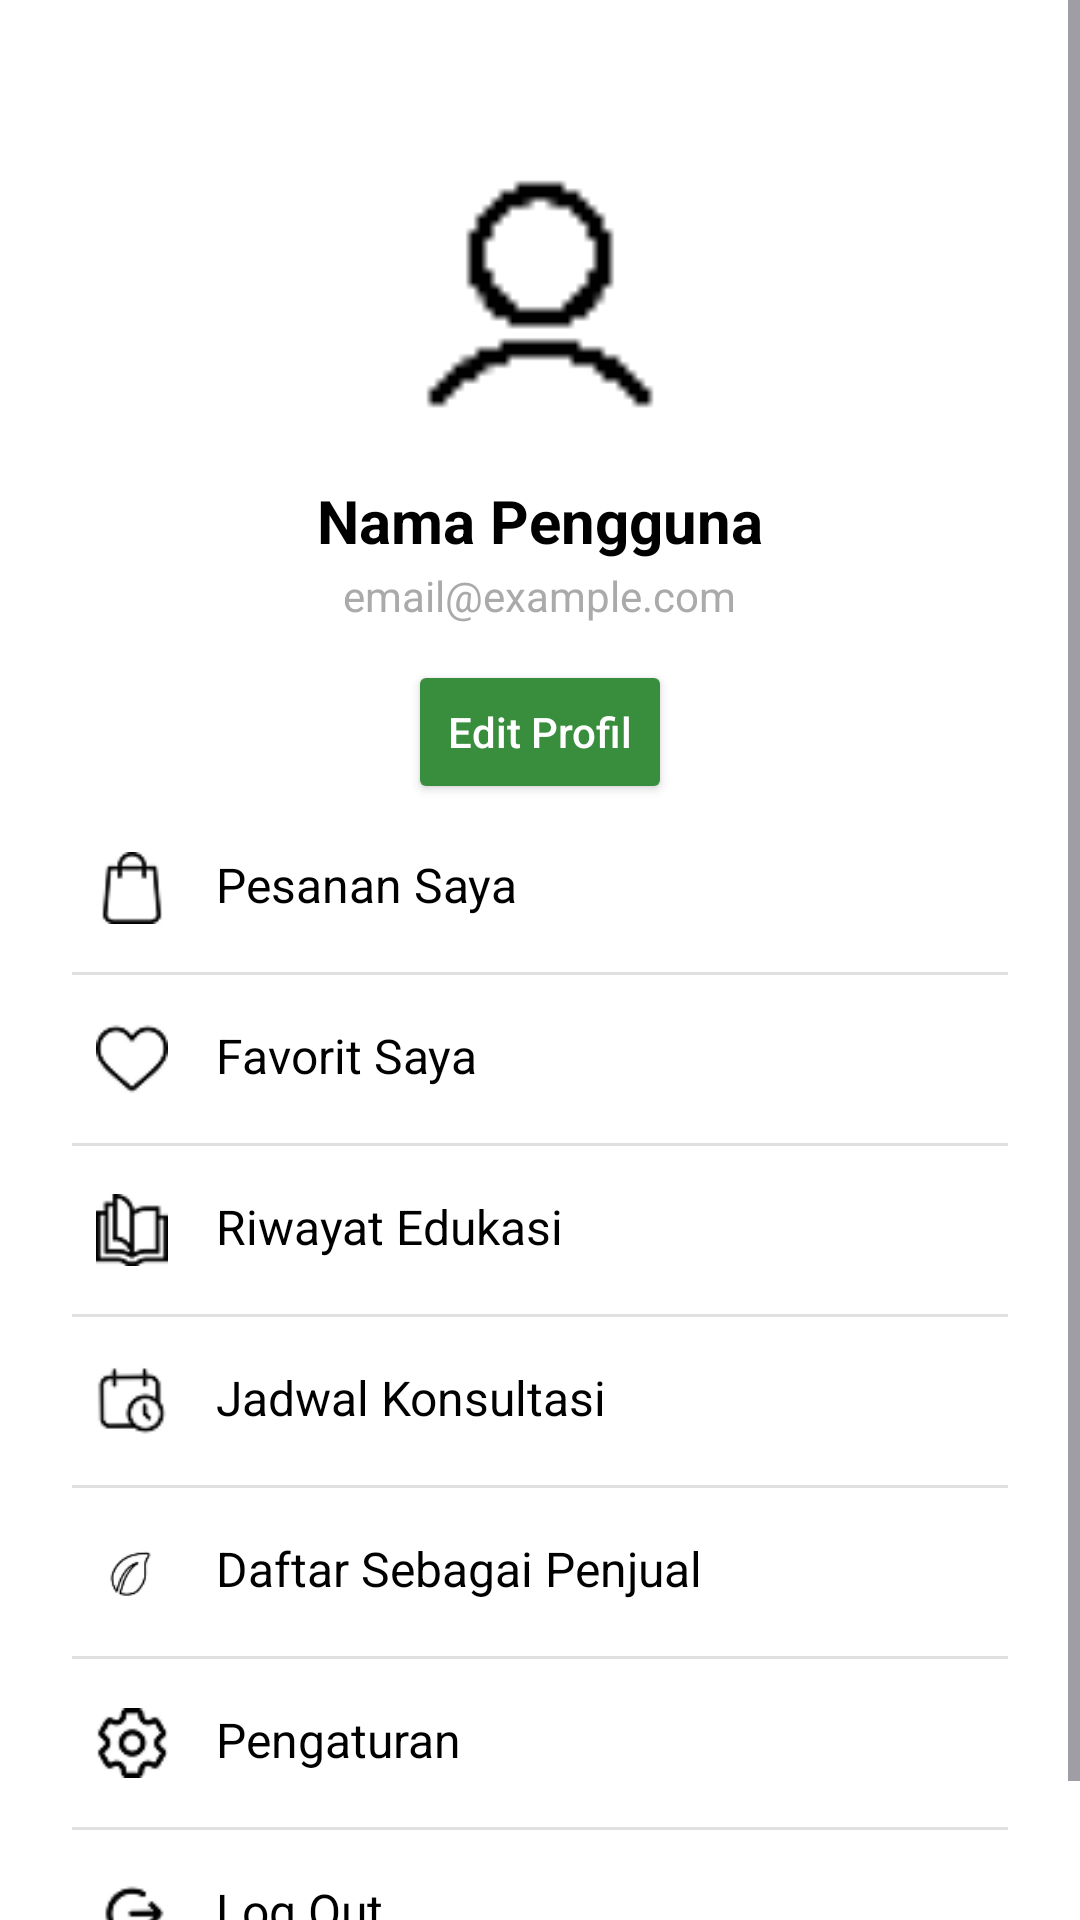

Screen size 1080 × 1920. Icon name, then its box in pixels as (x1, y1, x2, y2):
pasar: (102, 852, 162, 924)
user: (427, 181, 653, 407)
